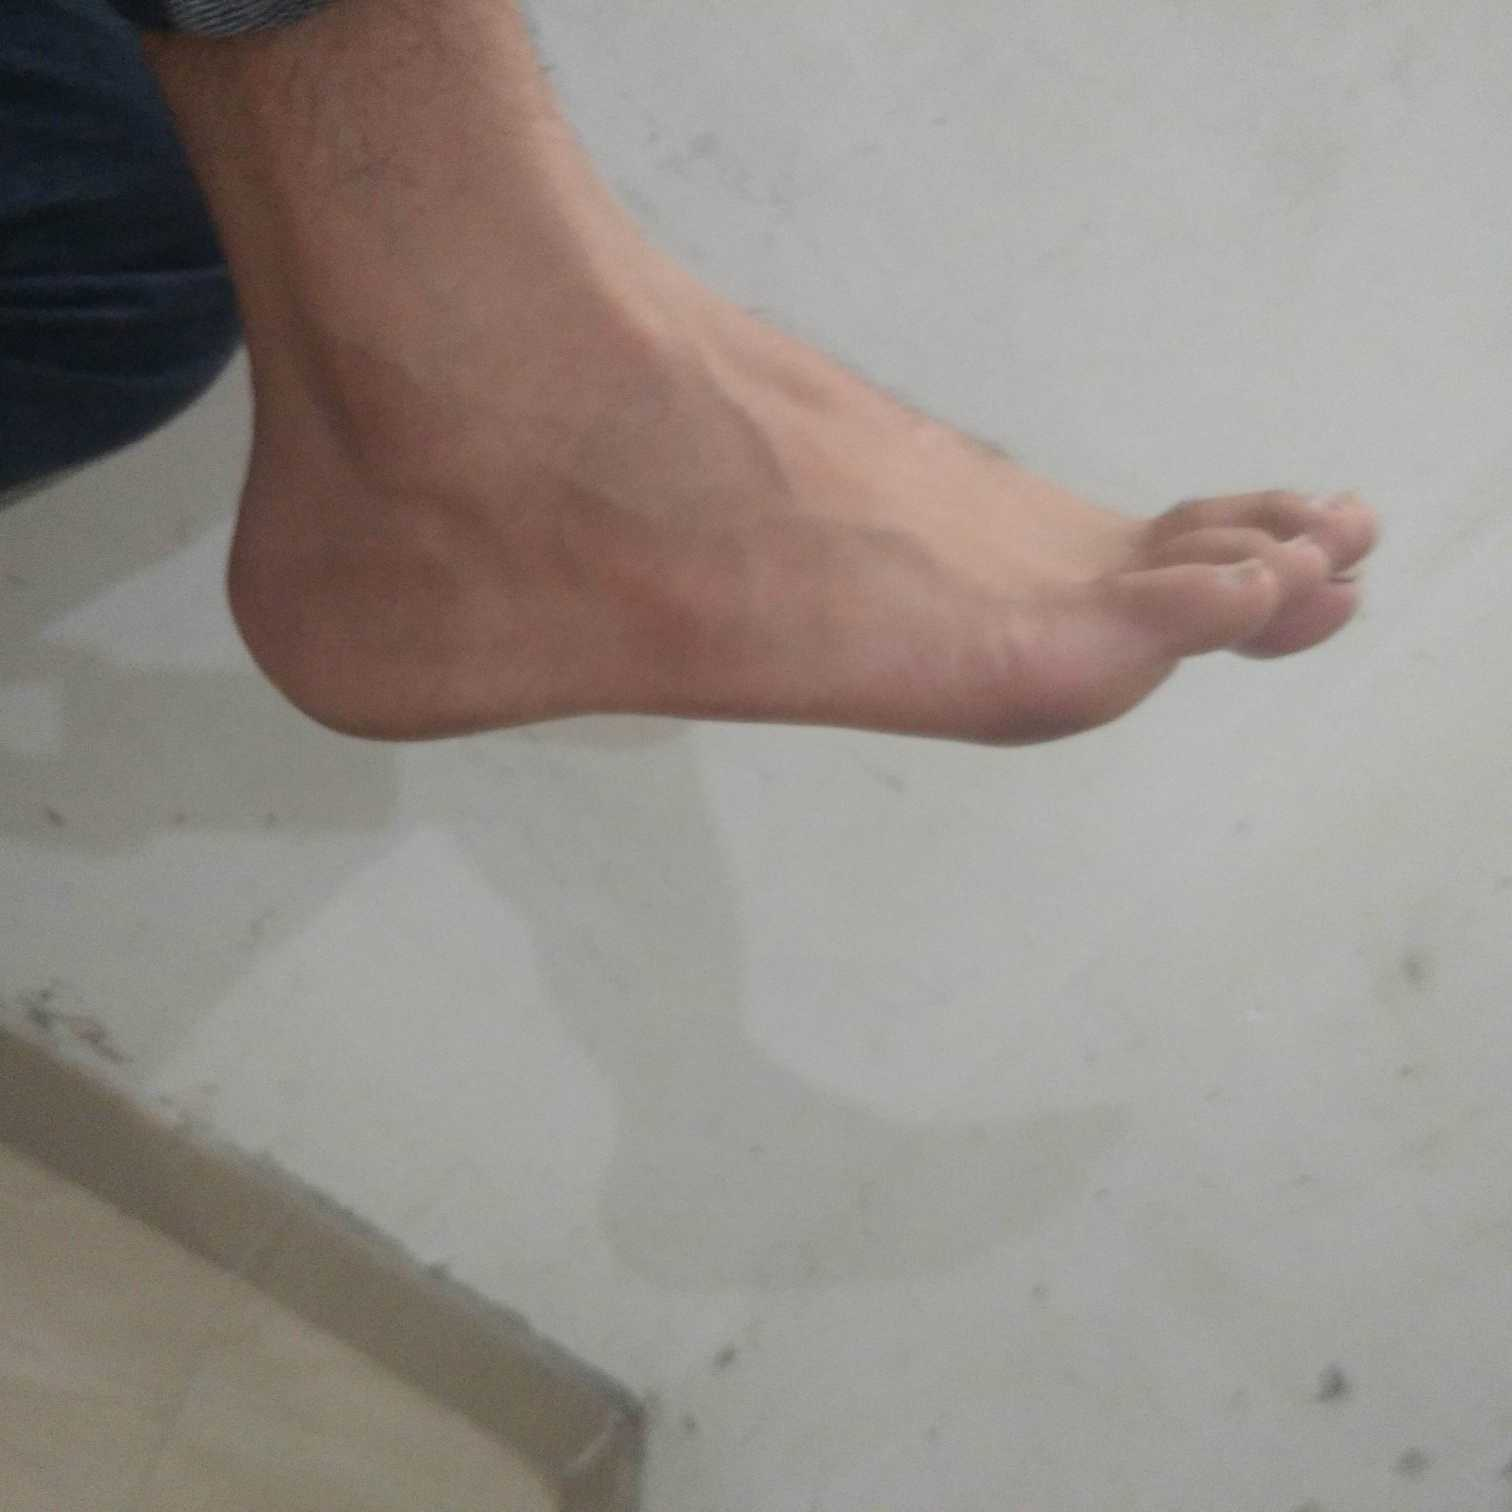foot: (220, 244, 1408, 748)
